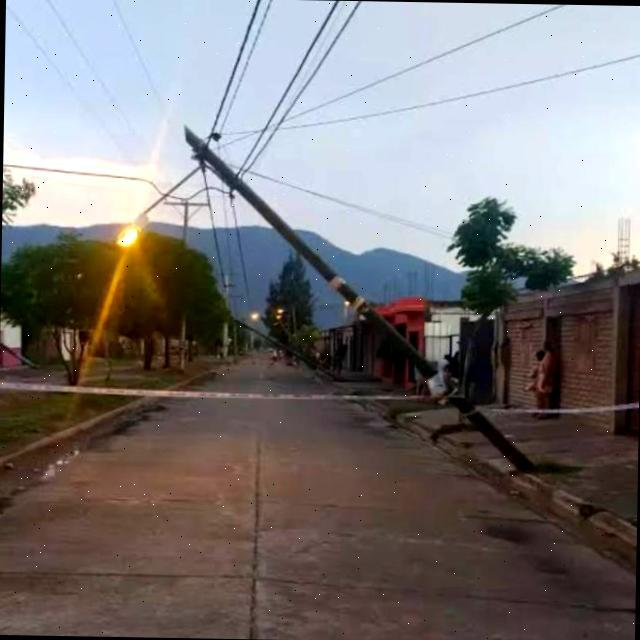Broken Pole: (105, 123, 535, 473)
